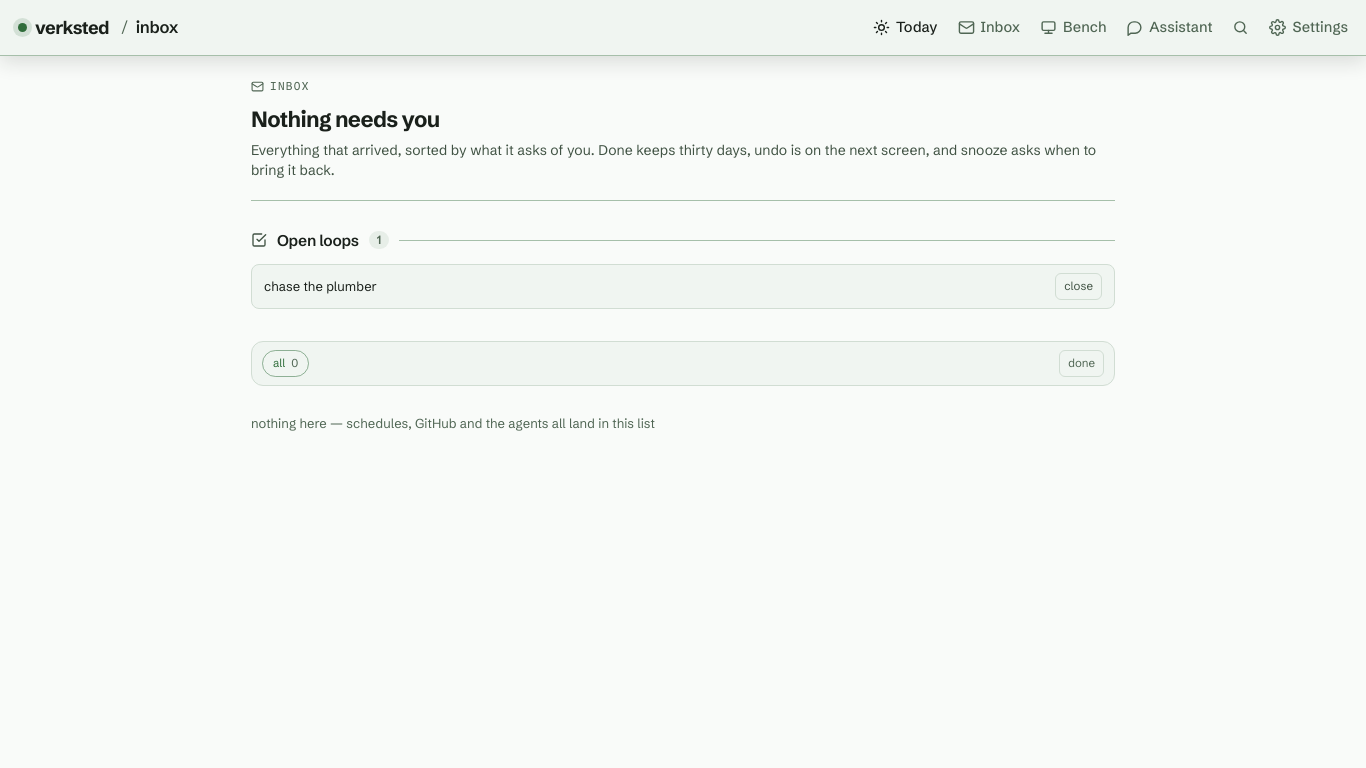
Test: a loop closed from the inbox › can be opened again from where the tap was made
This screenshot has width=1366, height=768.
Check: the text "chase the plumber" is shown, box [264,278,377,294]
Click the button "close": [1079, 286] box [1055,273,1102,300]
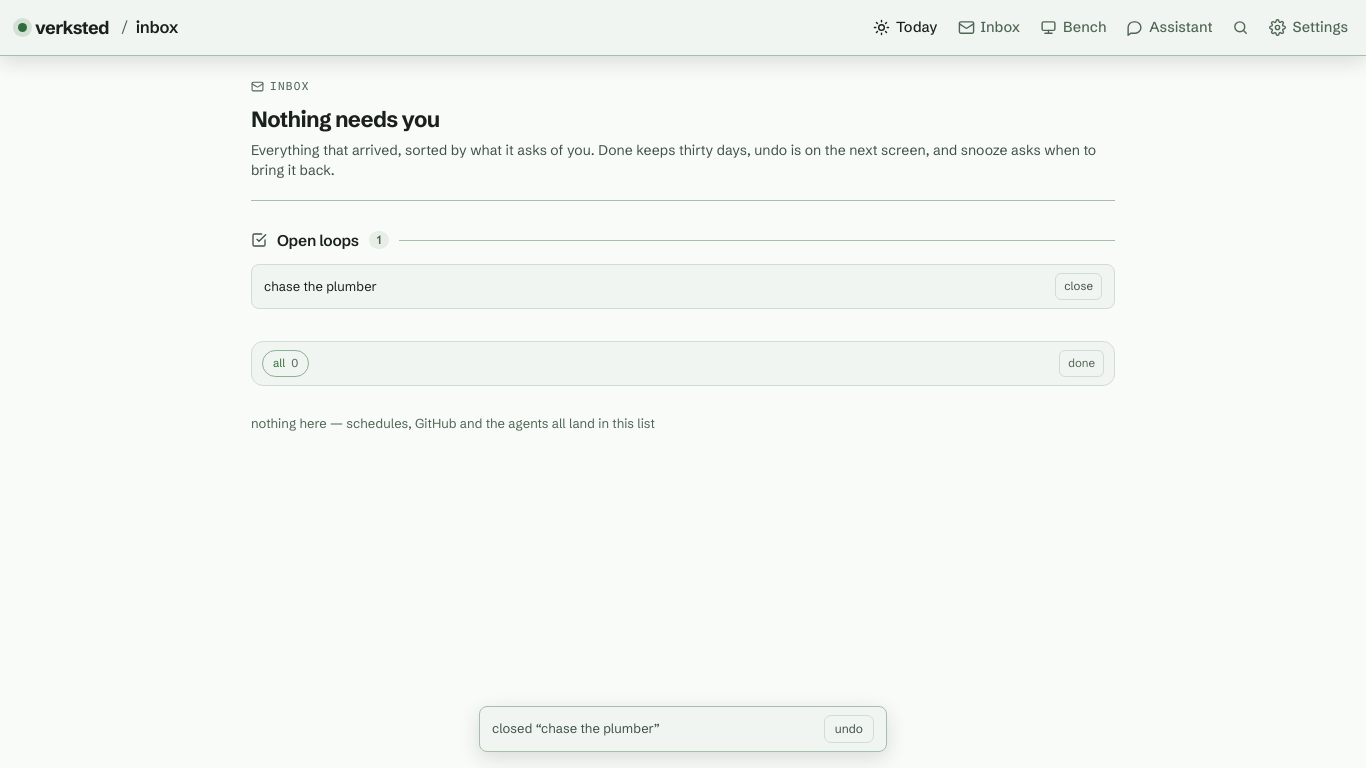
Check: the text "closed “chase the plumber”" is shown, box [492,720,660,736]
Click the button "undo": [849, 729] box [824,715,874,743]
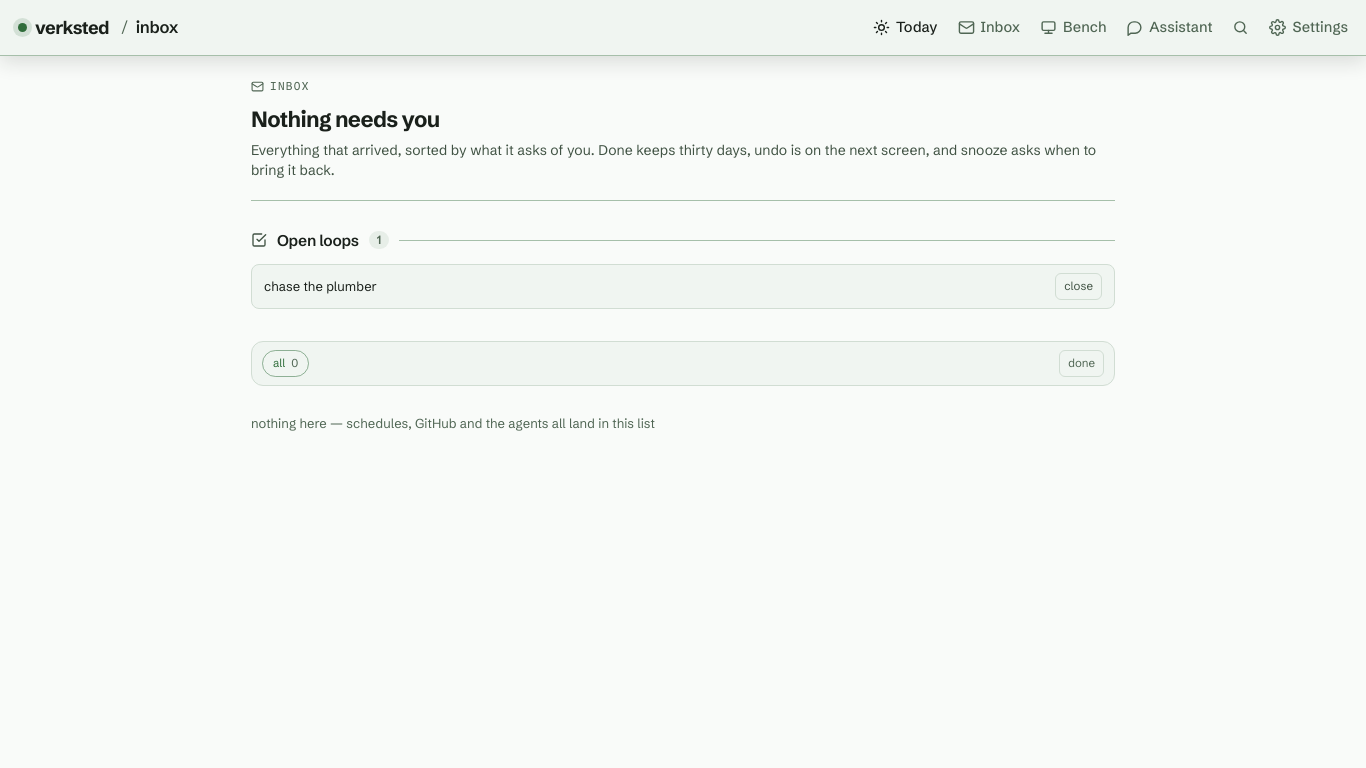
Check: the text "closed “chase the plumber”" is gone
